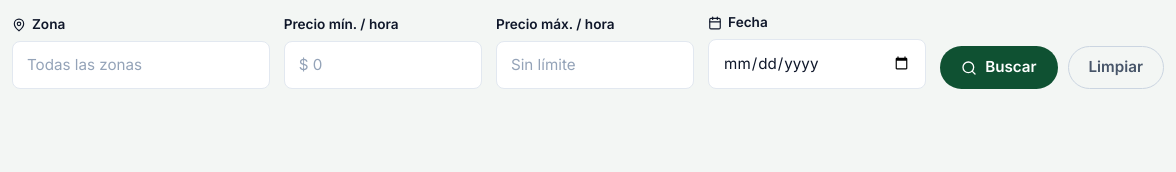
Test: FiltroCanchas › envía los filtros escritos y los limpia
In the field labelled "Zona": (141, 65) [12,41,270,89], type "Norte"
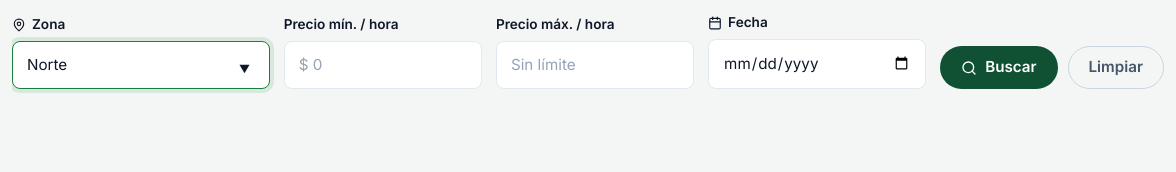
In the number field labelled "Precio mín. / hora": (383, 65) [284,41,482,89], type "10000"
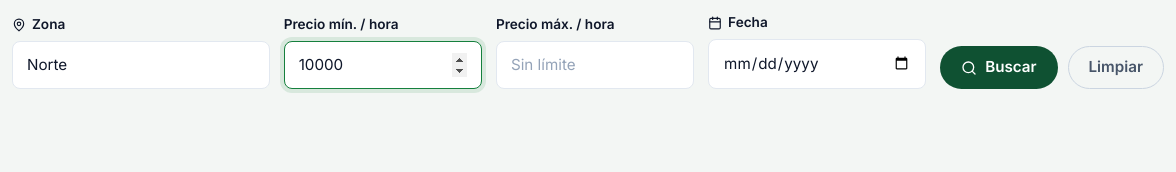
In the number field labelled "Precio máx. / hora": (595, 65) [496,41,694,89], type "50000"
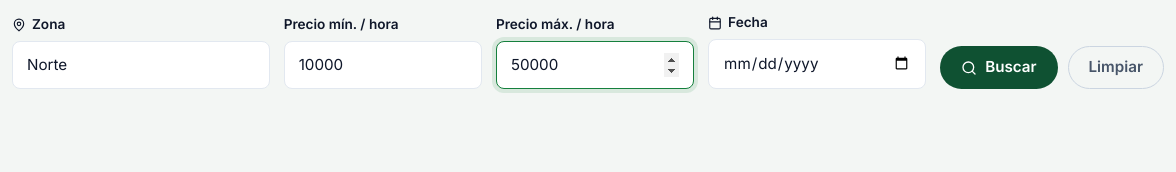
In the date field labelled "Fecha": (817, 64) [708,39,926,89], type "2026-10-01"
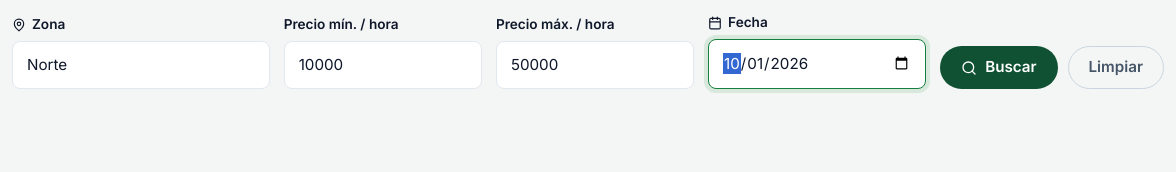
Click the button "Buscar": click(999, 68) [940,46,1058,89]
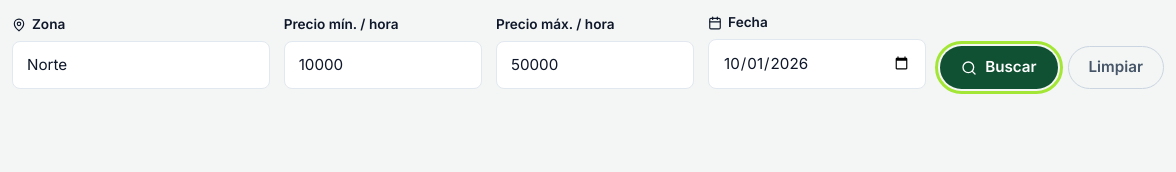
Click the button "Limpiar": click(1116, 68) [1068,46,1164,89]
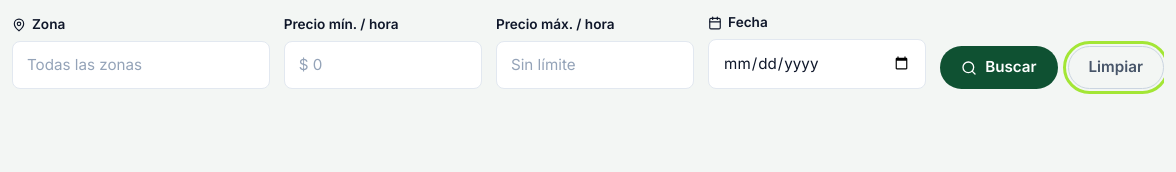
Expected: the field labelled "Zona" is empty, [12,41,270,89]
